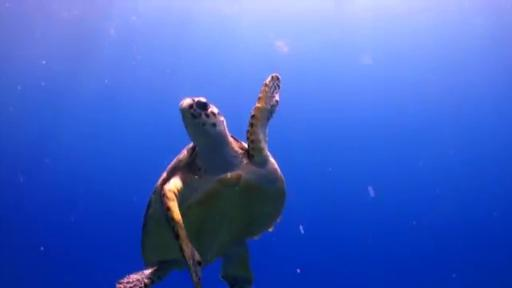Fish: (116, 74, 285, 287)
